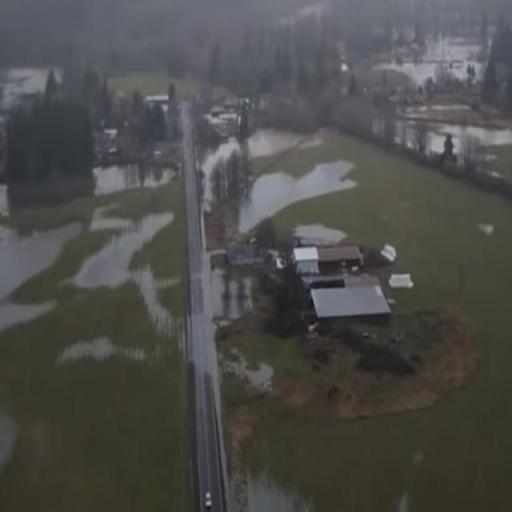flood: (71, 208, 178, 338), (0, 222, 88, 332), (0, 163, 177, 216), (238, 160, 357, 234), (190, 254, 251, 376), (373, 35, 487, 88), (195, 141, 248, 211), (55, 336, 146, 367), (429, 122, 512, 154), (221, 349, 274, 396), (248, 476, 314, 512), (0, 67, 50, 110), (248, 130, 306, 160), (0, 410, 16, 474)
house: (312, 272, 397, 326), (291, 244, 364, 275)
